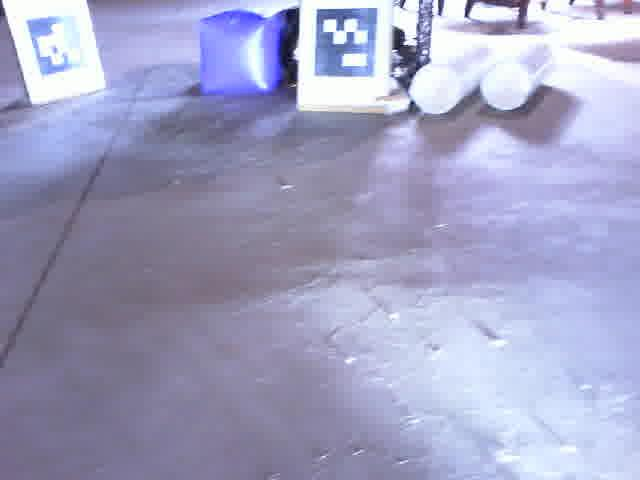coral: (408, 40, 493, 120), (480, 38, 558, 115)
